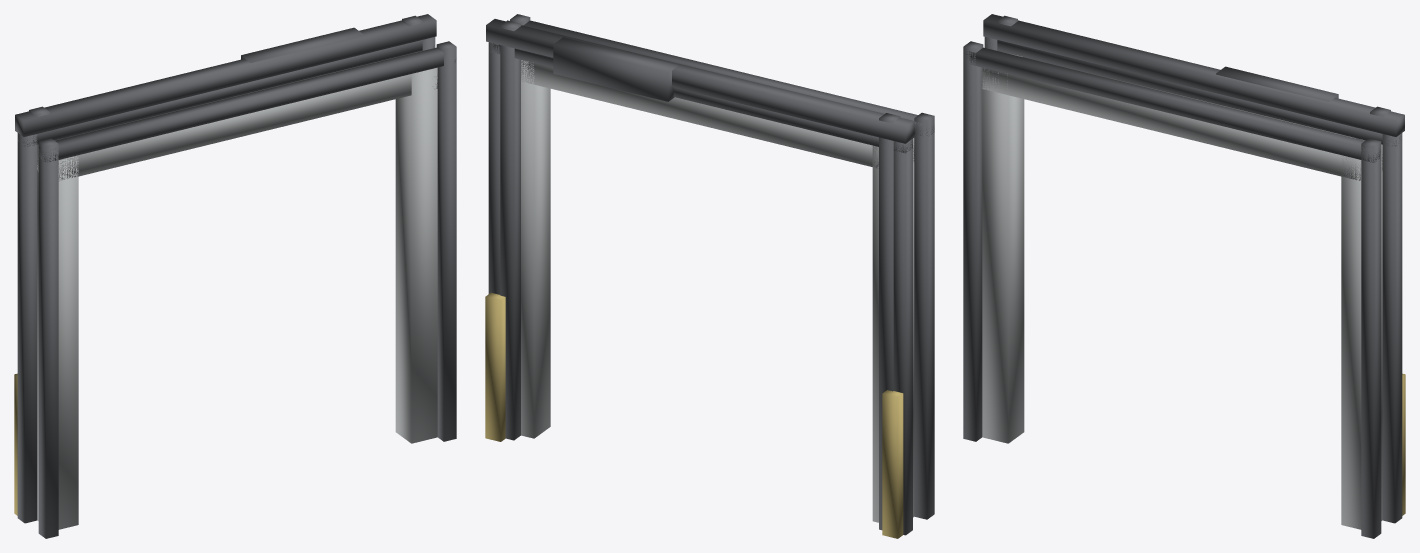
The model's file is bay_opening_loading_bay_w240_h240_d20.glb.
The picture shows the model from 3 angles, left to right: view 1: azimuth 30°, elevation 25°; view 2: azimuth 150°, elevation 25°; view 3: azimuth 330°, elevation 25°; orthographic projection.
Visible parts, largest first — view 1: world; view 2: world; view 3: world.
Part boxes in pixels (x1,y1,x2,y2): world: (14,14,456,538); world: (485,14,934,538); world: (963,14,1405,538).
Size of the model in its own units: 2.98 by 2.79 by 0.422.
